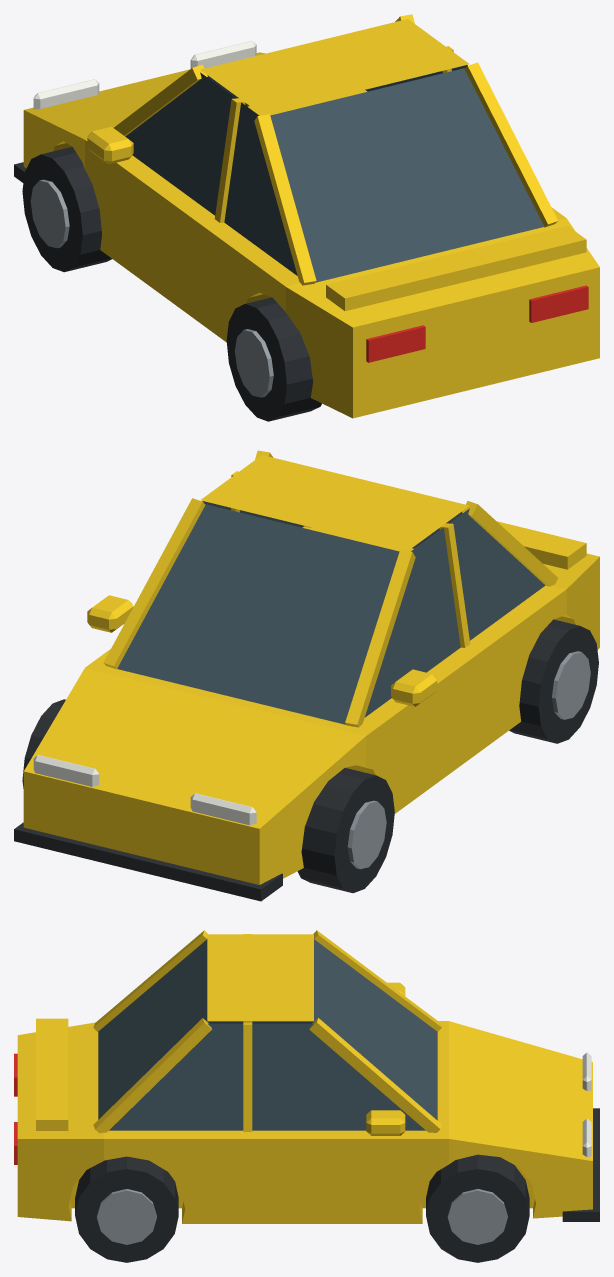
The model's file is car_agile.glb.
3 renders of one model, top to bottom at view 1: azimuth 30°, elevation 25°; view 2: azimuth 150°, elevation 25°; view 3: azimuth 270°, elevation 25°, orthographic. The views are drawn at different scales.
Parts seen in each view (by area): view 1: Body.001, CabinGlass.001, Roof.001, RearLip, Wheel_Rear_L.001, Wheel_Front_L.001, CabinPillar.004, CabinPillar.005, Hub_Front_L.001, Hub_Rear_L.001, CabinPillar.007, TailLight.002 (+5 smaller); view 2: Body.001, CabinGlass.001, Roof.001, Wheel_Front_L.001, Wheel_Rear_L.001, FrontSplitter.001, CabinPillar.007, CabinPillar.006, Hub_Front_L.001, Hub_Rear_L.001, RearLip, CabinPillar.004 (+6 smaller); view 3: Body.001, CabinGlass.001, Roof.001, Wheel_Front_R.001, Wheel_Rear_R.001, RearLip, Hub_Front_R.001, Hub_Rear_R.001, CabinPillar.006, CabinPillar.005, CabinPillar.007, CabinPillar.004 (+3 smaller).
Boxes of the visible parts, bbox=[...] form: Body.001: bbox=[23, 52, 599, 418]; CabinGlass.001: bbox=[125, 65, 544, 282]; Roof.001: bbox=[200, 19, 469, 114]; RearLip: bbox=[326, 226, 586, 311]; Wheel_Rear_L.001: bbox=[226, 297, 321, 421]; Wheel_Front_L.001: bbox=[22, 146, 111, 272]; CabinPillar.004: bbox=[254, 114, 316, 285]; CabinPillar.005: bbox=[464, 62, 557, 227]; Hub_Front_L.001: bbox=[30, 179, 69, 248]; Hub_Rear_L.001: bbox=[235, 329, 273, 397]; CabinPillar.007: bbox=[114, 64, 207, 136]; TailLight.002: bbox=[366, 325, 425, 362]; Body.001: bbox=[23, 526, 599, 884]; CabinGlass.001: bbox=[117, 501, 545, 724]; Roof.001: bbox=[200, 455, 469, 550]; Wheel_Front_L.001: bbox=[297, 768, 394, 893]; Wheel_Rear_L.001: bbox=[509, 619, 598, 743]; FrontSplitter.001: bbox=[14, 822, 282, 901]; CabinPillar.007: bbox=[345, 550, 415, 727]; CabinPillar.006: bbox=[103, 498, 205, 669]; Hub_Front_L.001: bbox=[347, 800, 386, 869]; Hub_Rear_L.001: bbox=[551, 651, 590, 719]; RearLip: bbox=[497, 521, 586, 569]; CabinPillar.004: bbox=[462, 501, 557, 586]; Body.001: bbox=[17, 1021, 592, 1223]; CabinGlass.001: bbox=[98, 938, 437, 1130]; Roof.001: bbox=[207, 934, 313, 1021]; Wheel_Front_R.001: bbox=[426, 1154, 529, 1262]; Wheel_Rear_R.001: bbox=[75, 1156, 178, 1262]; RearLip: bbox=[36, 1018, 68, 1130]; Hub_Front_R.001: bbox=[447, 1189, 507, 1244]; Hub_Rear_R.001: bbox=[97, 1189, 156, 1244]; CabinPillar.006: bbox=[309, 1018, 441, 1132]; CabinPillar.005: bbox=[93, 1018, 212, 1133]; CabinPillar.007: bbox=[313, 930, 441, 1031]; CabinPillar.004: bbox=[93, 930, 207, 1031].
Bounding box in the file's own units: 2.04 × 1.51 × 3.62.
